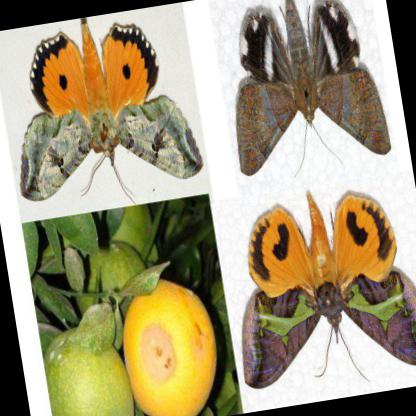fruit sucking moth: (239, 193, 416, 392), (18, 17, 204, 200), (234, 0, 390, 174)
